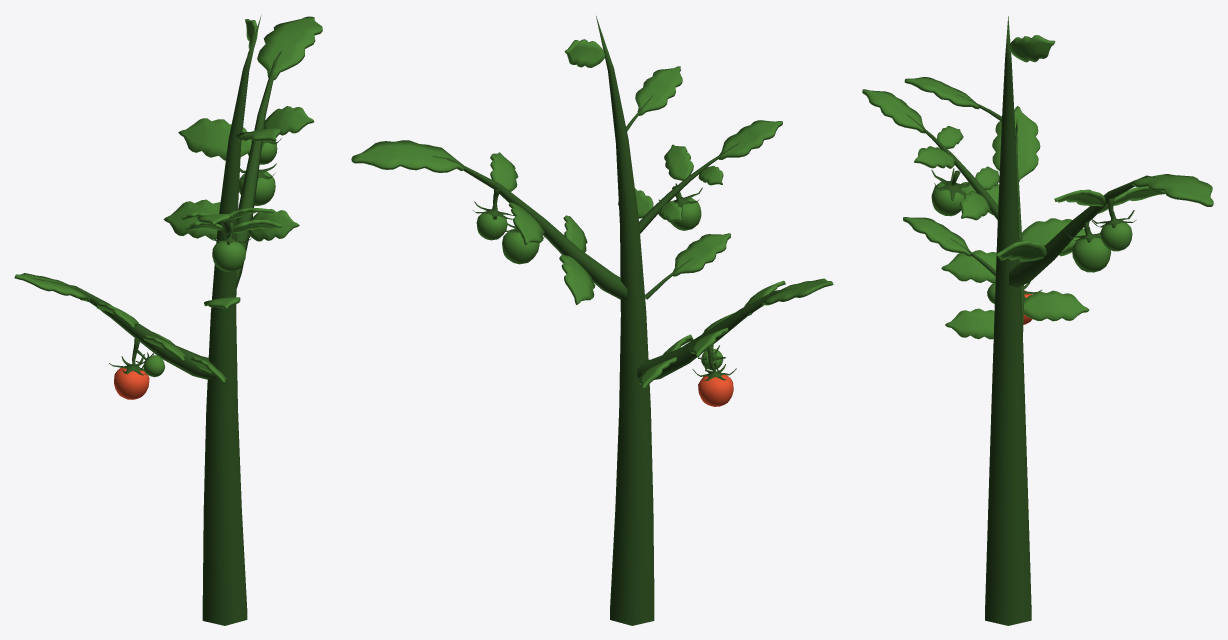
Rendered from CherryTomato_M.fbx.
3 renders of one model, left to right at view 1: azimuth 30°, elevation 25°; view 2: azimuth 150°, elevation 25°; view 3: azimuth 270°, elevation 25°, orthographic. The views are drawn at different scales.
Visible parts, largest first — view 1: Cube.026; view 2: Cube.026; view 3: Cube.026.
Boxes of the visible parts, left/top/right/bottom form: Cube.026: left=14, top=15, right=322, bottom=625; Cube.026: left=351, top=16, right=833, bottom=625; Cube.026: left=862, top=16, right=1213, bottom=625.
Size of the model in its own units: 130 by 188 by 96.43.
